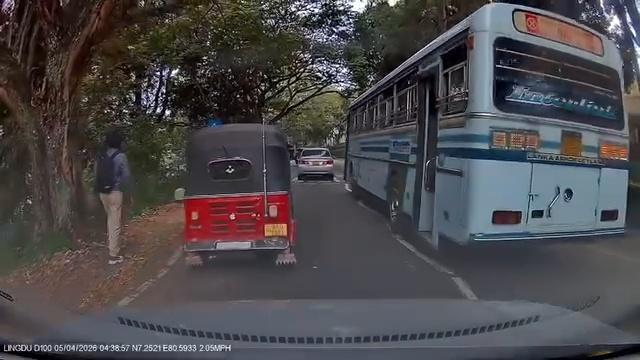illegal overtaking: (343, 67, 620, 263)
